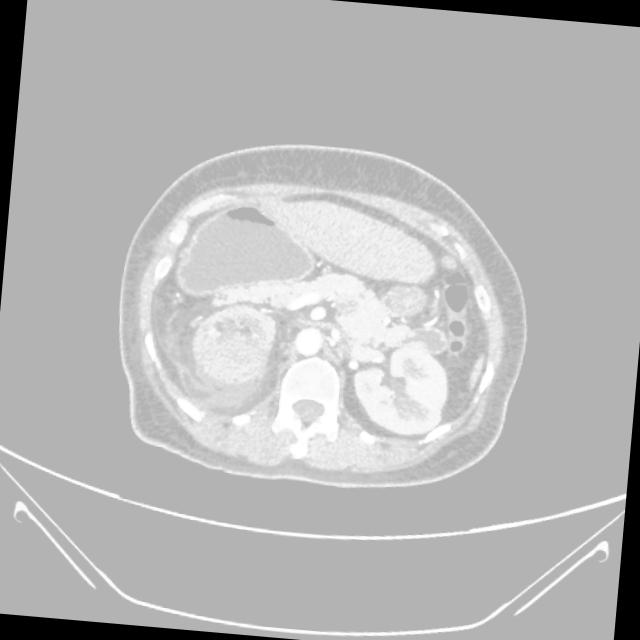TUMOR: (85, 159, 541, 400)
